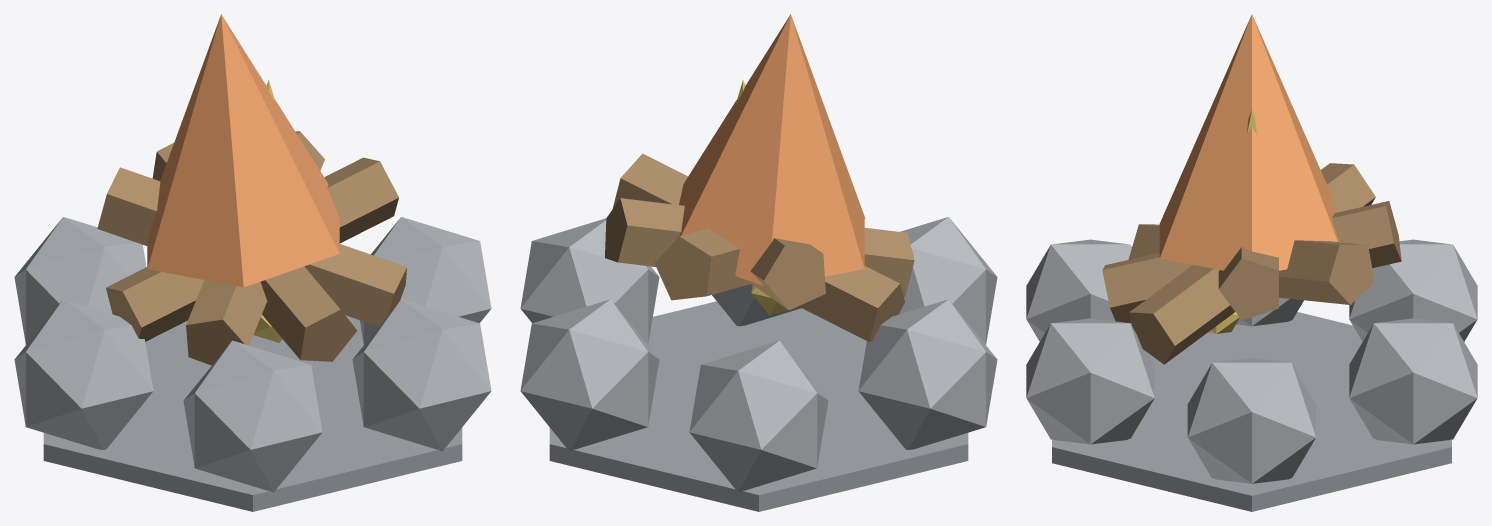
File: animprop_campfire_06.glb
The picture shows the model from 3 angles, left to right: view 1: azimuth 30°, elevation 25°; view 2: azimuth 150°, elevation 25°; view 3: azimuth 270°, elevation 25°; orthographic projection. The views are drawn at different scales.
Visible parts, largest first — view 1: animprop; view 2: animprop; view 3: animprop.
Boxes of the visible parts, left/top/right/bottom form: animprop: left=14, top=14, right=491, bottom=511; animprop: left=520, top=14, right=997, bottom=511; animprop: left=1026, top=14, right=1477, bottom=511.
Bounding box in the file's own units: 1.13 × 0.9587 × 1.02.
